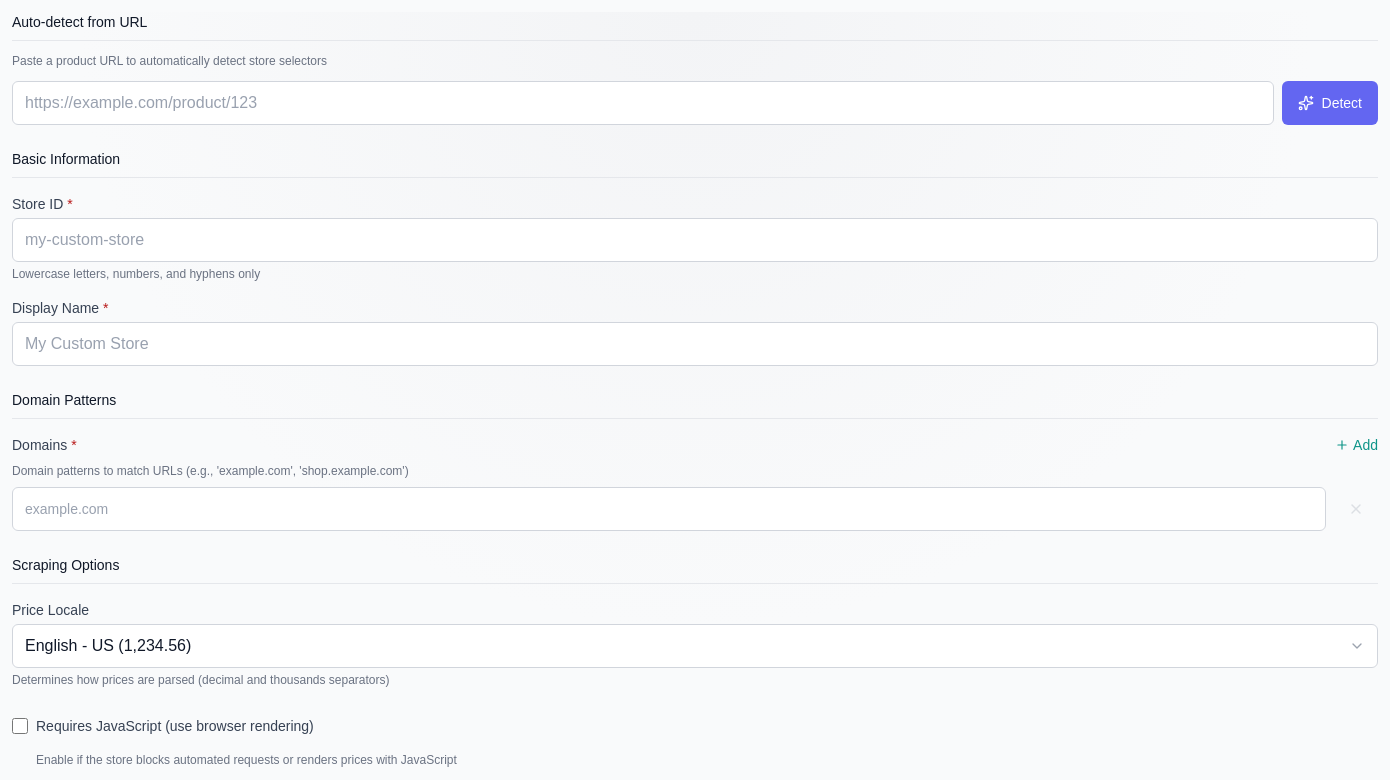
Test case: StoreForm › auto-detect › should show error when detect is clicked with empty URL
Step 1. Click the button with test id "detect-button" → (1330, 103), box x1=1282 y1=81 x2=1378 y2=125
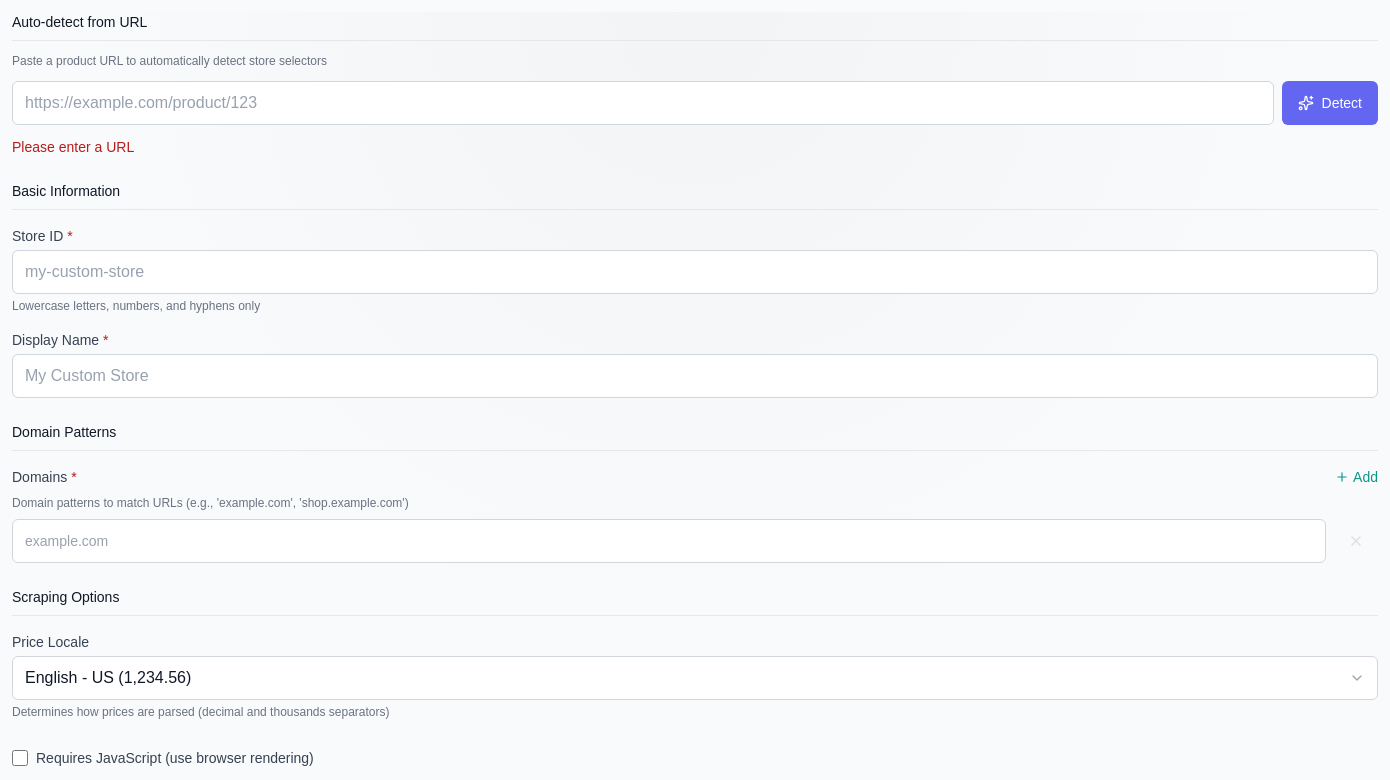
Expected: the element with test id "detect-error" reads "Please enter a URL", x1=12 y1=139 x2=134 y2=155
